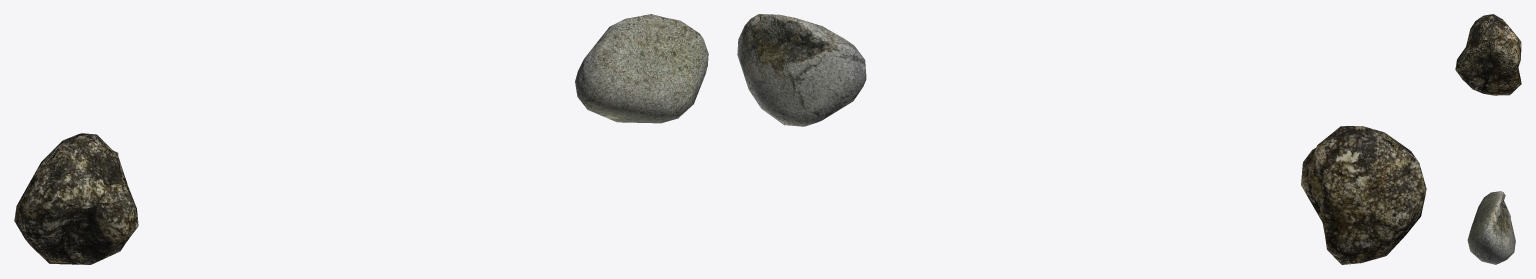
The model's file is pass-rocks.glb.
3 renders of one model, left to right at view 1: azimuth 30°, elevation 25°; view 2: azimuth 150°, elevation 25°; view 3: azimuth 270°, elevation 25°, orthographic. The views are drawn at different scales.
Parts seen in each view (by area): view 1: rock004_lod4, rock001_lod4; view 2: rock004_lod4, rock001_lod4; view 3: rock004_lod4, rock001_lod4.
Part boxes in pixels (left/top/right/bottom): rock004_lod4: left=14, top=133, right=138, bottom=264; rock001_lod4: left=575, top=14, right=708, bottom=123; rock004_lod4: left=1301, top=126, right=1426, bottom=264; rock001_lod4: left=737, top=14, right=866, bottom=126; rock004_lod4: left=1455, top=14, right=1521, bottom=95; rock001_lod4: left=1467, top=191, right=1515, bottom=264.
Size of the model in its own units: 5.32 by 0.9552 by 0.7408.
Materials: 2 (2 with a texture image).
